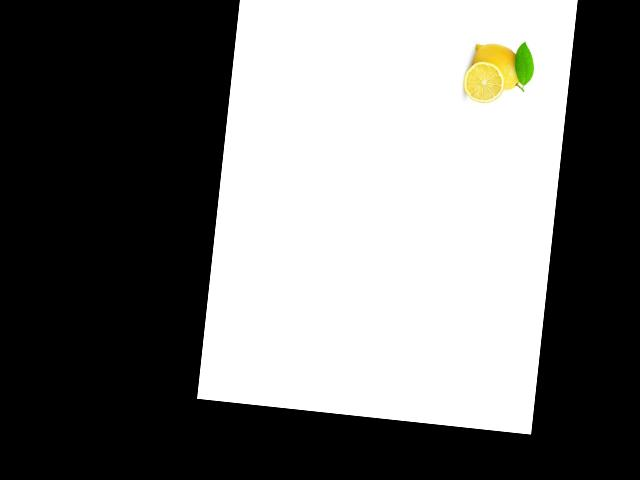lemon: (465, 36, 530, 95)
